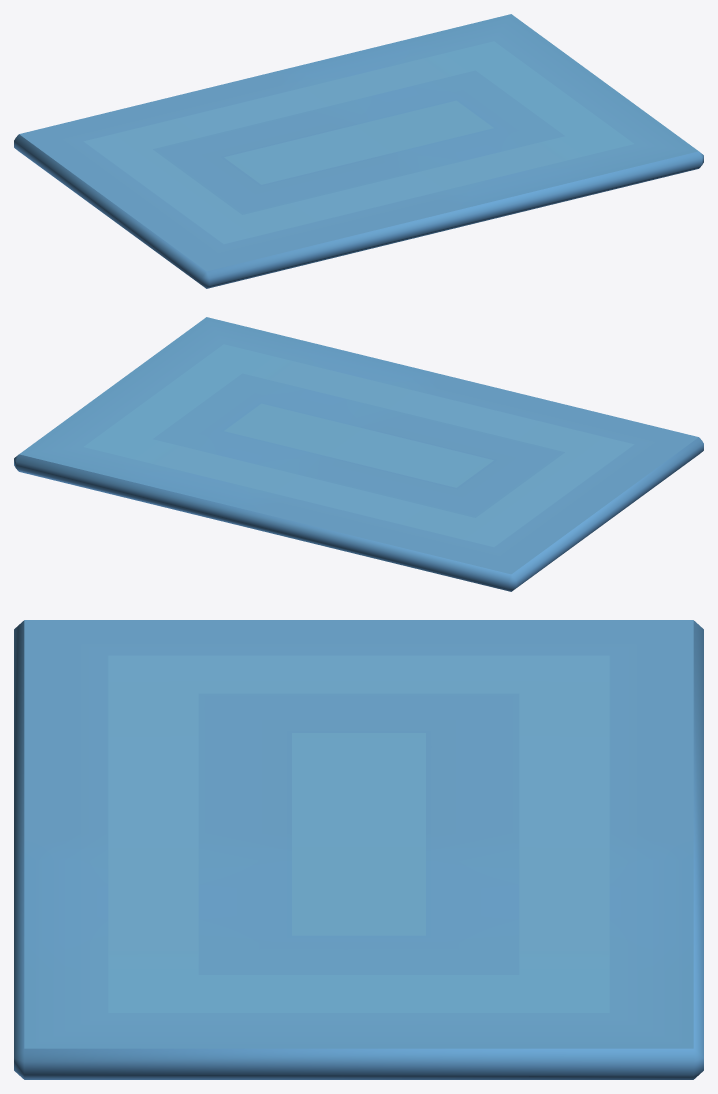
The model's file is kay-tapete-listrado-2.gltf.
3 views of the same model, one above another, from view 1: azimuth 30°, elevation 25°; view 2: azimuth 150°, elevation 25°; view 3: azimuth 270°, elevation 25° (orthographic). The views are drawn at different scales.
Parts seen in each view (by area): view 1: rug_rectangle_stripes_B; view 2: rug_rectangle_stripes_B; view 3: rug_rectangle_stripes_B.
Boxes of the visible parts, x1=… form: rug_rectangle_stripes_B: x1=14, y1=14, x2=703, y2=288; rug_rectangle_stripes_B: x1=14, y1=317, x2=703, y2=591; rug_rectangle_stripes_B: x1=14, y1=620, x2=703, y2=1079.
Bounding box in the file's own units: 1.95 × 0.065 × 1.3.
1 material, 1 textured.
